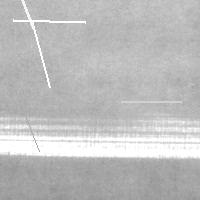scratches: (2, 129, 199, 157), (4, 70, 44, 156), (26, 15, 54, 92), (8, 15, 90, 27), (11, 0, 38, 33), (116, 96, 186, 107)
